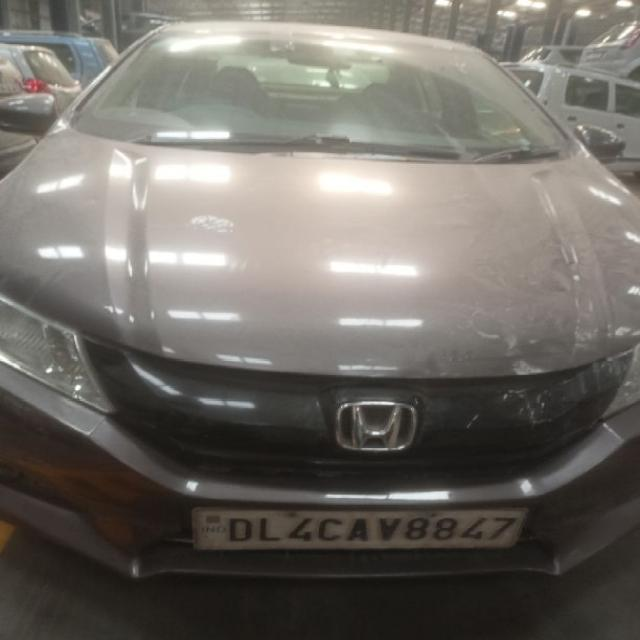license_plate: (189, 505, 529, 552)
